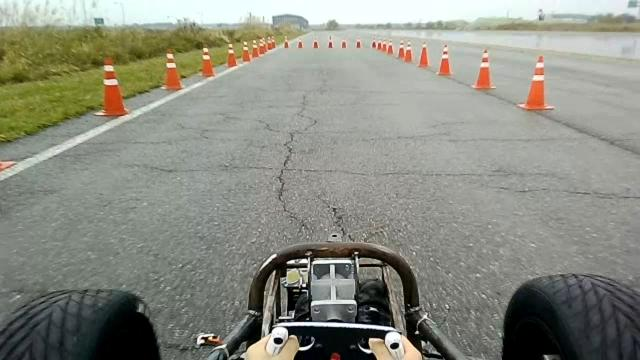red cone: (93, 56, 129, 116), (518, 55, 554, 111), (471, 48, 496, 90), (160, 49, 184, 90), (436, 44, 453, 76), (200, 46, 215, 78), (417, 41, 430, 68), (226, 43, 237, 68), (404, 40, 413, 62), (242, 41, 251, 62), (396, 39, 405, 59), (252, 39, 260, 58), (386, 39, 394, 55)
